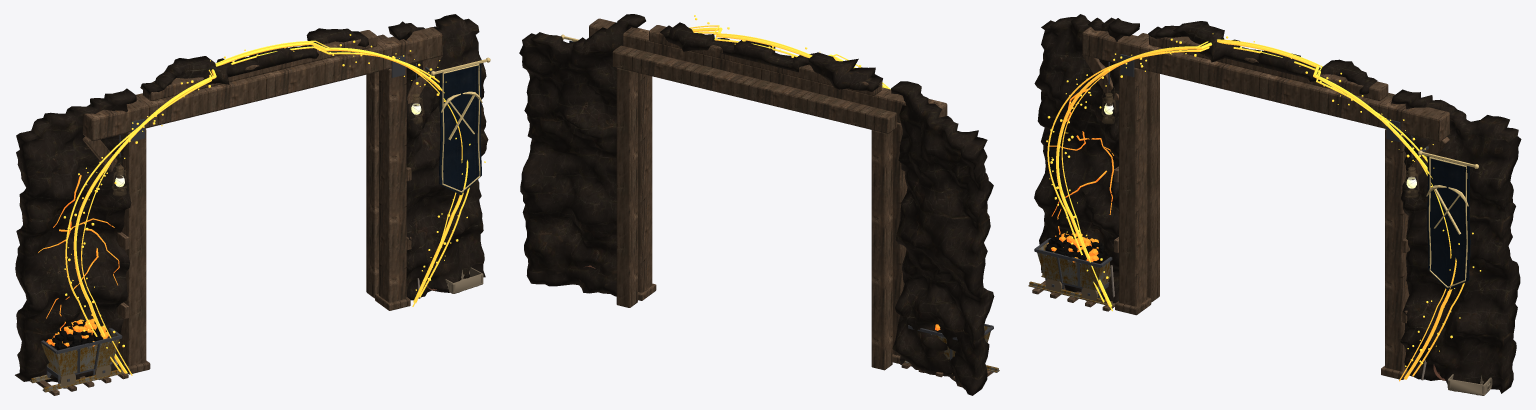
The model's file is fachada_12.glb.
3 views of the same model, side by side, from view 1: azimuth 30°, elevation 25°; view 2: azimuth 150°, elevation 25°; view 3: azimuth 330°, elevation 25° (orthographic). The views are drawn at different scales.
Visible parts, largest first — view 1: F12; view 2: F12; view 3: F12.
Part boxes in pixels (x1,y1,x2,y2): F12: [15, 14, 490, 395]; F12: [519, 14, 999, 395]; F12: [1028, 14, 1521, 395].
Size of the model in its own units: 12.4 by 7.54 by 1.67.
Materials: 14 (9 with a texture image).
